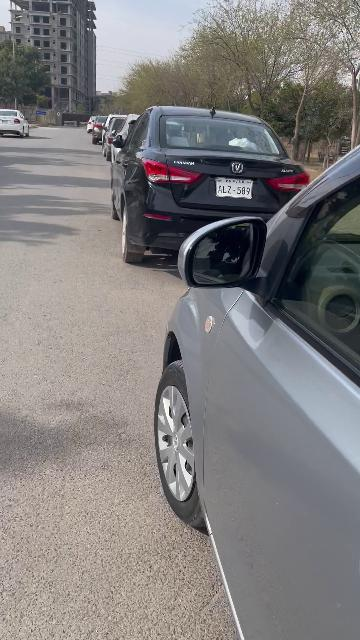plate: (216, 178, 253, 198)
